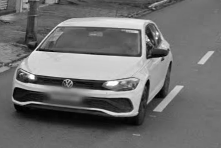car: (11, 17, 178, 133)
